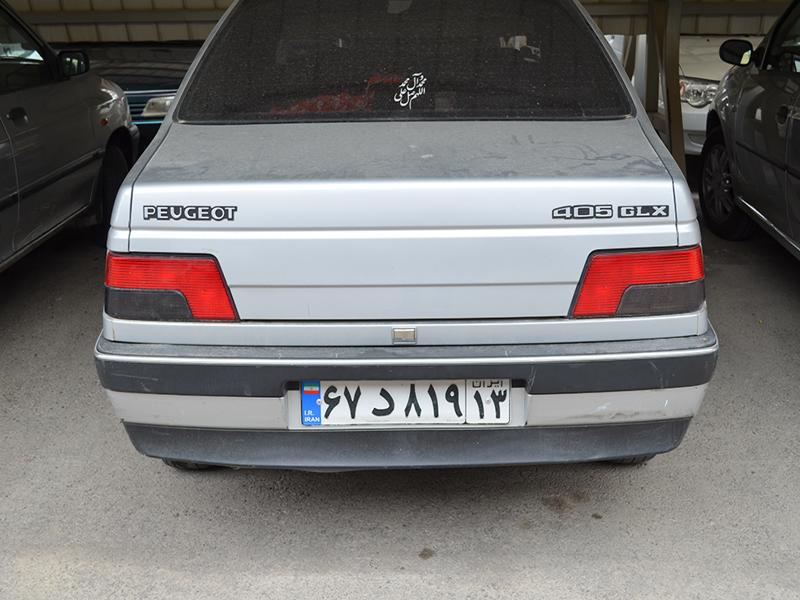Plate: (293, 359, 517, 436)
